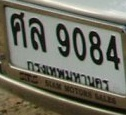txt31: (27, 17, 47, 53)
txt33: (9, 11, 27, 48)
